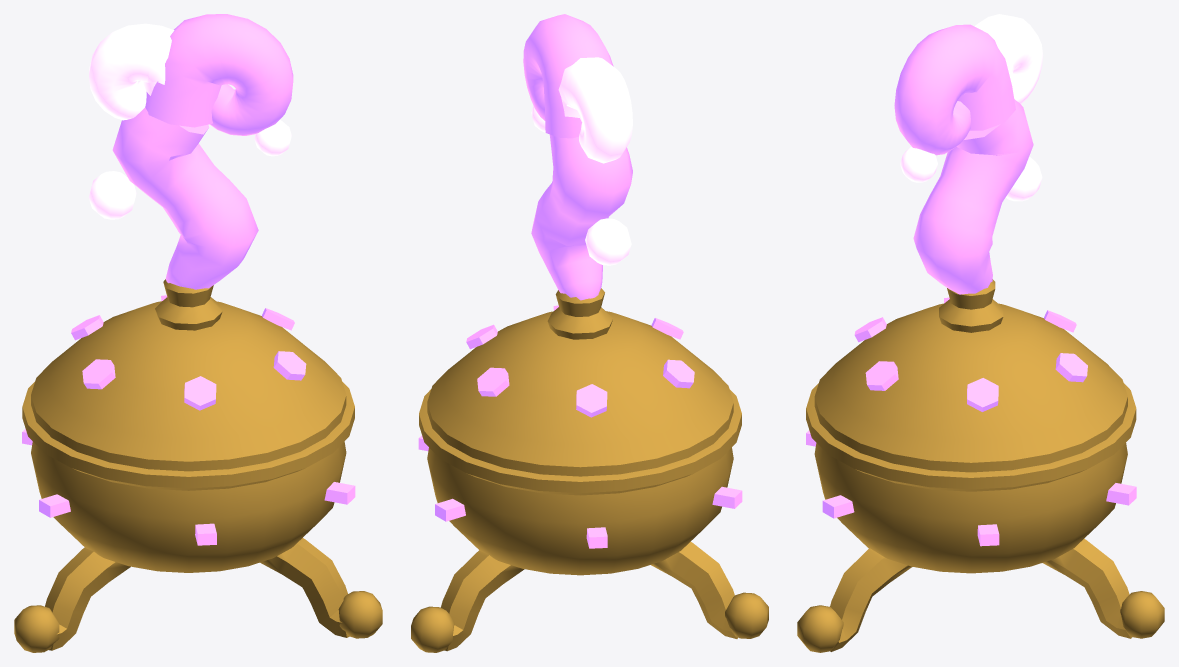
The model's file is item_focus_incense.glb.
The picture shows the model from 3 angles, left to right: view 1: azimuth 30°, elevation 25°; view 2: azimuth 150°, elevation 25°; view 3: azimuth 270°, elevation 25°; orthographic projection. The views are drawn at different scales.
Visible parts, largest first — view 1: FocusIncense; view 2: FocusIncense; view 3: FocusIncense.
Boxes of the visible parts, x1=… form: FocusIncense: x1=14, y1=14, x2=382, y2=652; FocusIncense: x1=411, y1=14, x2=768, y2=652; FocusIncense: x1=797, y1=14, x2=1164, y2=652.
Bounding box in the file's own units: 0.1727 × 0.29 × 0.1647.
